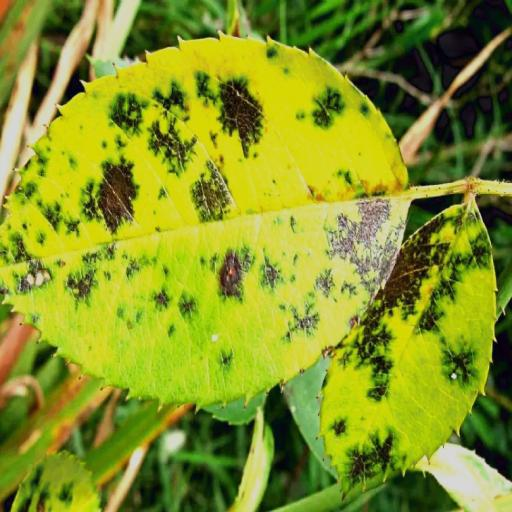downy_mildew: (0, 36, 408, 405), (321, 200, 495, 492), (416, 444, 511, 511), (284, 357, 336, 477), (13, 453, 100, 511), (230, 408, 273, 511)
